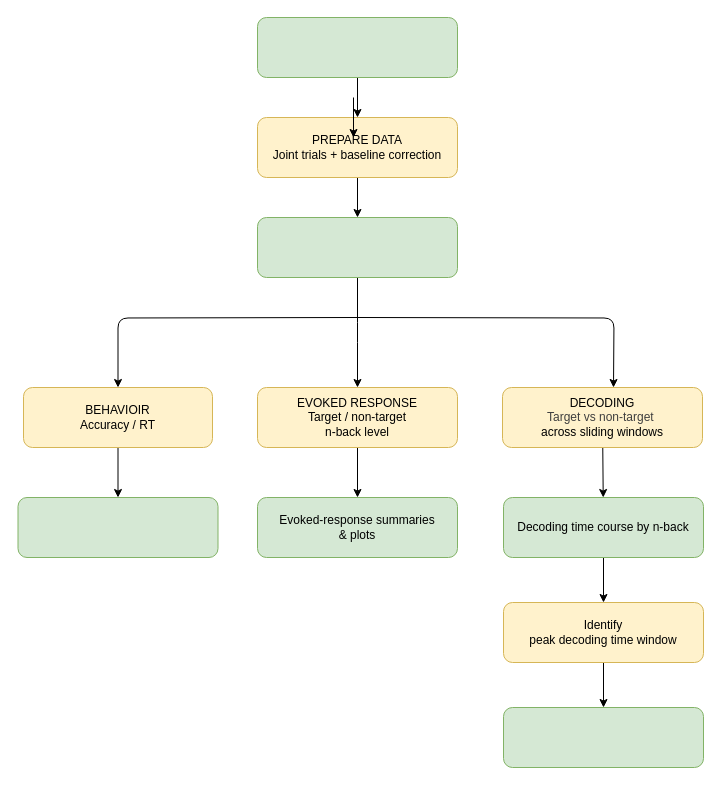
The diagram is 721 pixels wide and 785 high, and some of its shapes have lost their labels. Each missing label, with the box of its shape:
Behavioural summarise & plots: (17, 496, 218, 558)
Clean trail-level dataset: (256, 216, 458, 278)
Peak decoding latency & accuracy: (502, 706, 704, 768)
RAW DATA Behaviour + EEG: (256, 16, 458, 78)
